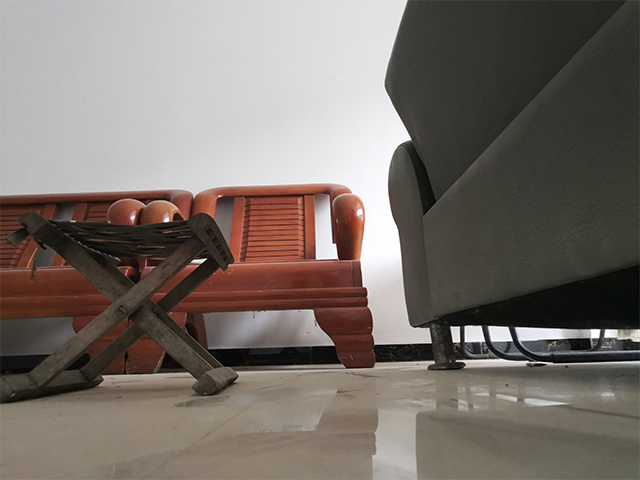sofa: (381, 1, 640, 373)
stool: (132, 183, 378, 378), (1, 210, 240, 405), (1, 188, 191, 371)
